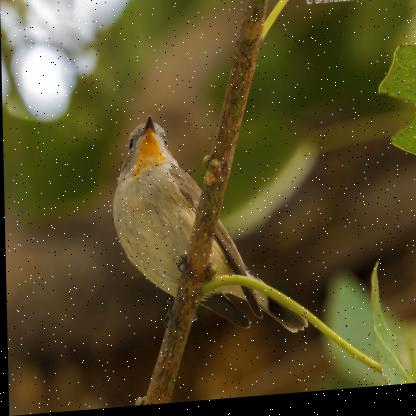Burung: (107, 104, 317, 353)
